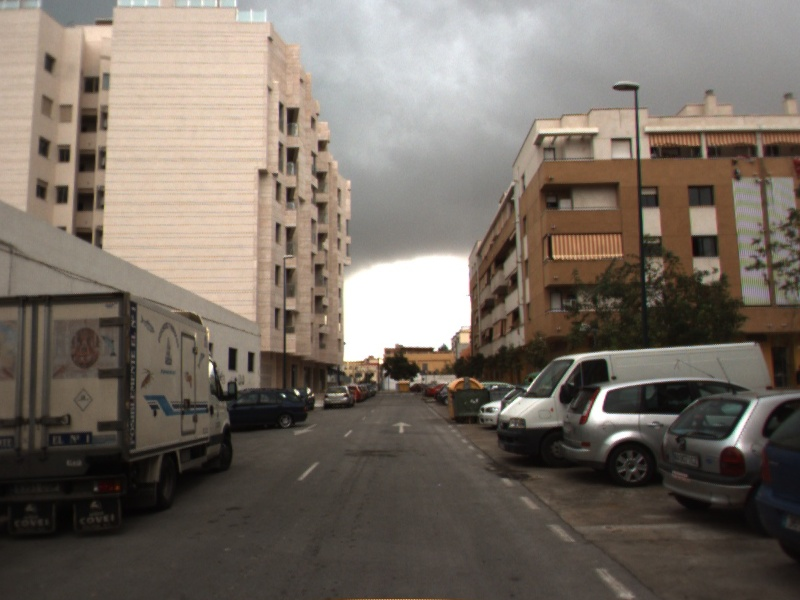STRAIGHT: (390, 419, 415, 436)
